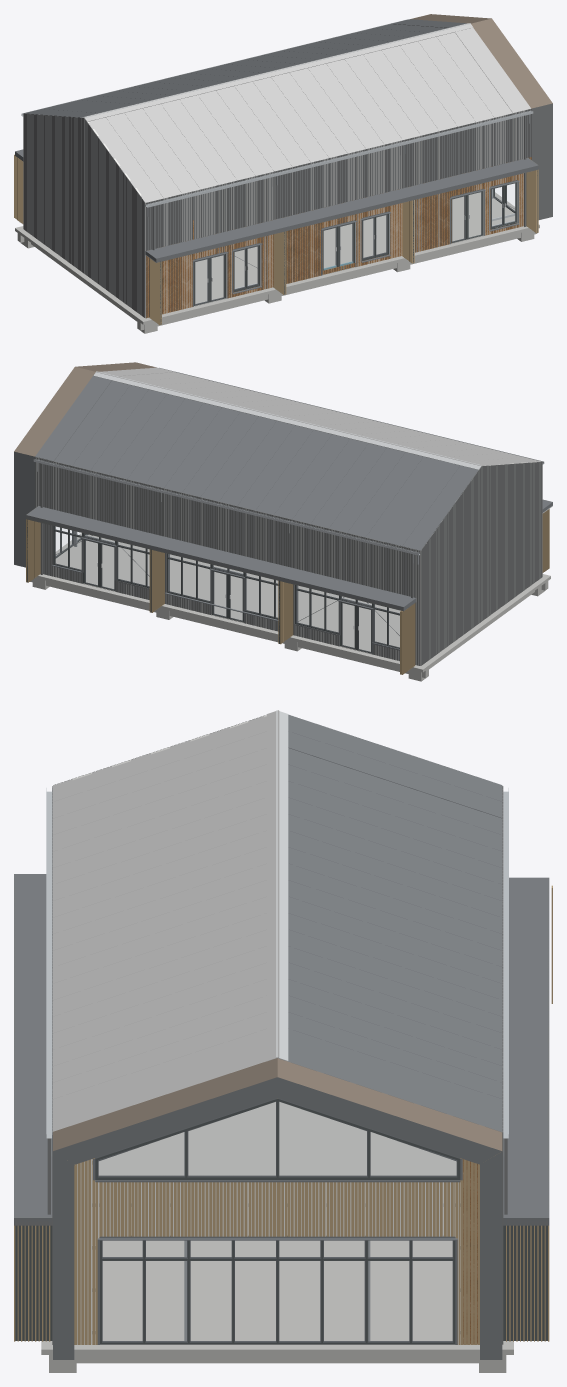
The model's file is NAVE_COMERCIAL_v1.glb.
The picture shows the model from 3 angles, top to bottom: view 1: azimuth 30°, elevation 25°; view 2: azimuth 150°, elevation 25°; view 3: azimuth 270°, elevation 25°; orthographic projection. The views are drawn at different scales.
Visible parts, largest first — view 1: Geom3D (×24); view 2: Geom3D (×24); view 3: Geom3D (×26).
Part boxes in pixels (x1,y1,x2,y2): Geom3D (×24): (14,14,552,333); Geom3D (×24): (14,362,550,681); Geom3D (×26): (14,710,552,1372).
Bounding box in the file's own units: 22.47 × 8.88 × 13.8.
Materials: 24 (1 with a texture image).
